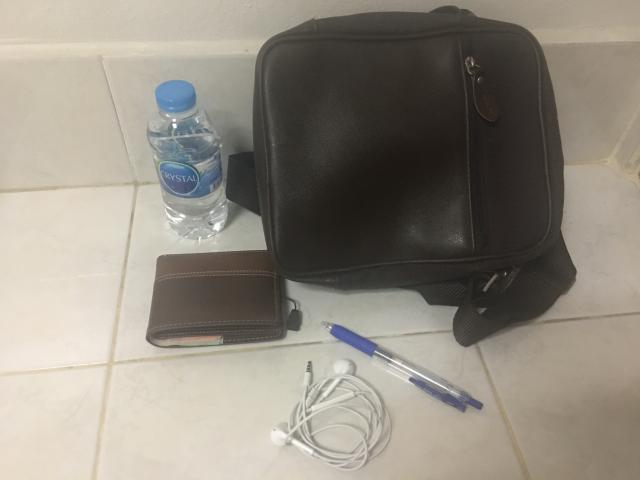Pen: (321, 321, 482, 411)
Wallet: (146, 249, 284, 346)
bottle: (148, 80, 228, 239)
wire: (270, 360, 391, 471)
